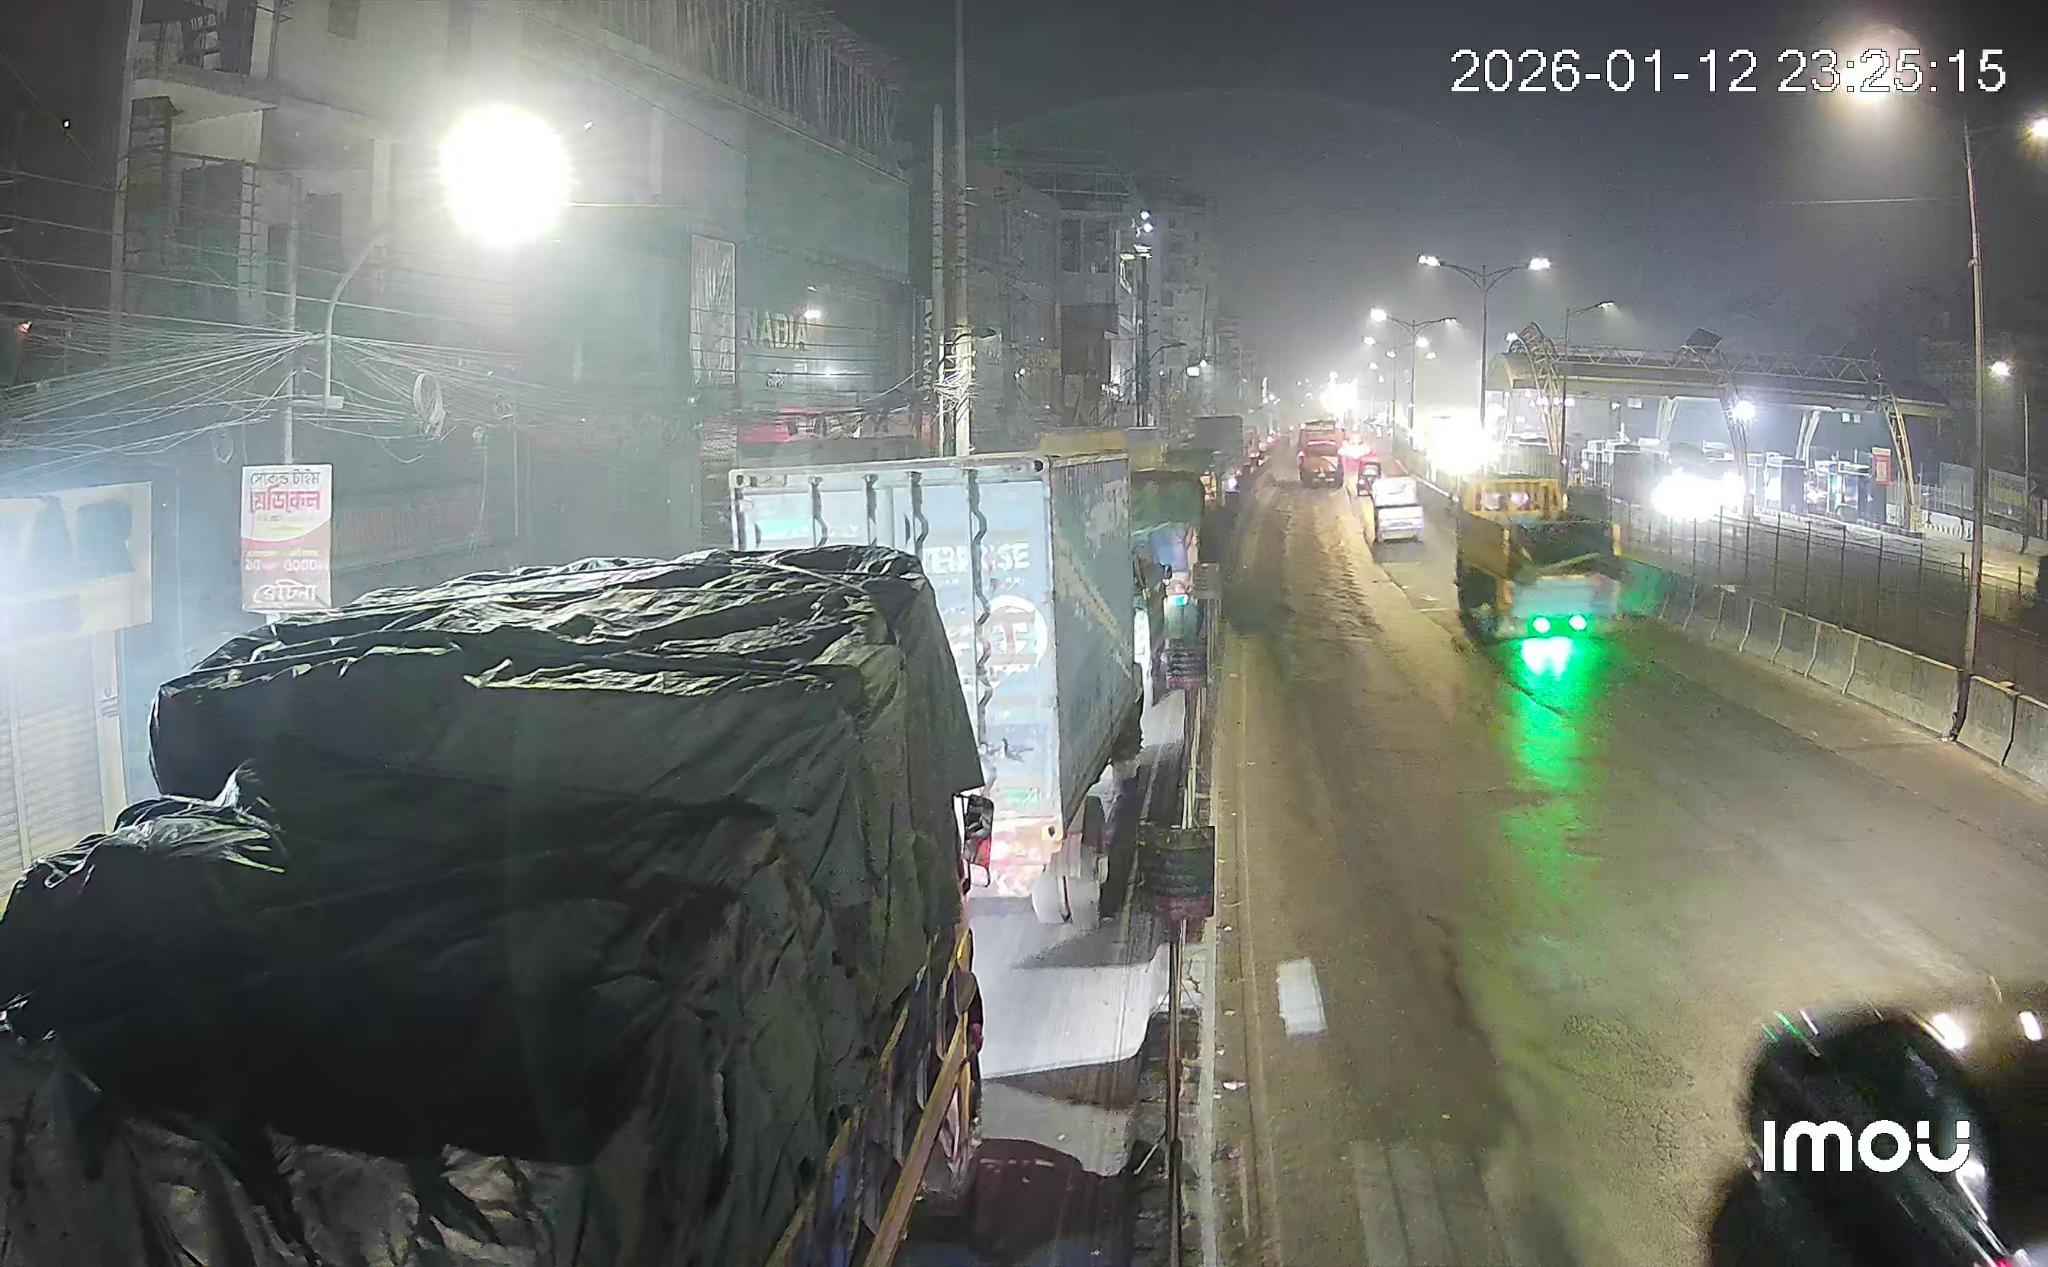Private-Sedan Car: (1745, 986, 2047, 1267)
Truck: (0, 546, 992, 1267), (731, 454, 1141, 929), (1453, 474, 1627, 639), (1369, 474, 1425, 543)
